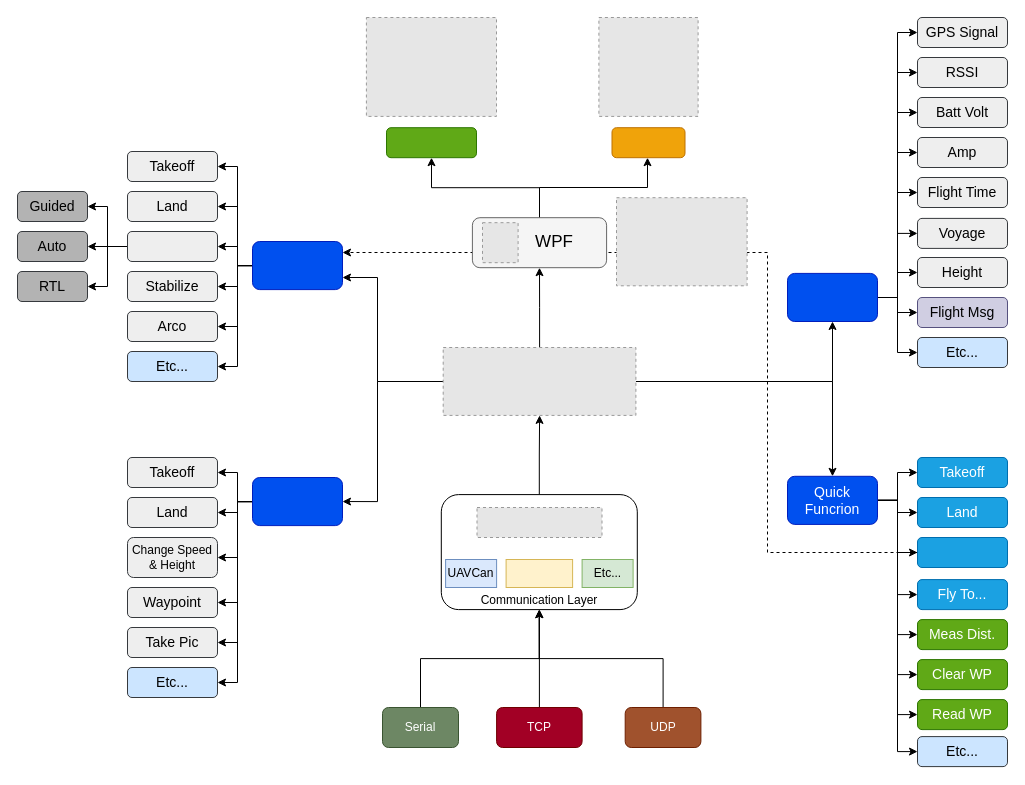
This 1025x785 diagram has some shape labels left out. Grey dashed boxes stand in for pictures. The shapes that lost their labels are listed below. From the top down, each one's centre as x and y in pixels, then its label:
the point at 431,142: GMap.NET
the point at 648,142: NPilotHud
the point at 172,246: Loiter (GPS)
the point at 297,265: Flight Mode
the point at 832,297: Flight Status
the point at 297,501: Mission Plan
the point at 962,552: Mode Change
the point at 539,573: UranusLink
